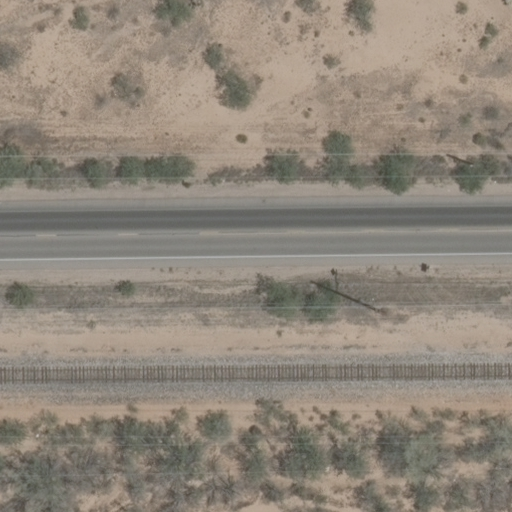DT: (315, 278, 388, 316)
